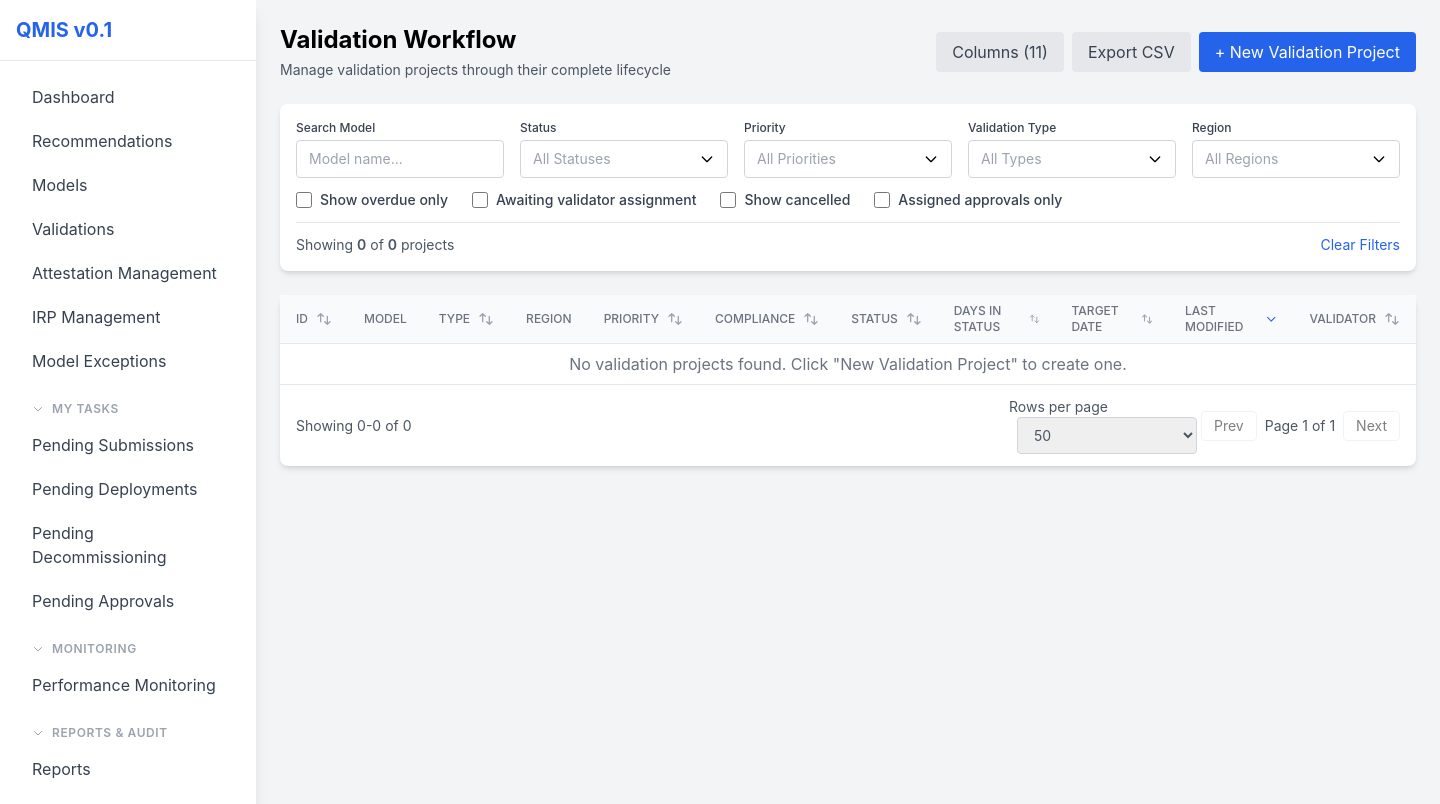
ValidationWorkflowPage - Phase 4 Regional Scope Intelligence › API Integration › handles API errors gracefully when fetching region suggestions
This screenshot has width=1440, height=804.
What coordinates should you click on to do the following:
click the button "+ New Validation Project"
I would click on:
 (1307, 52)
Its box is [1199,32,1416,72].
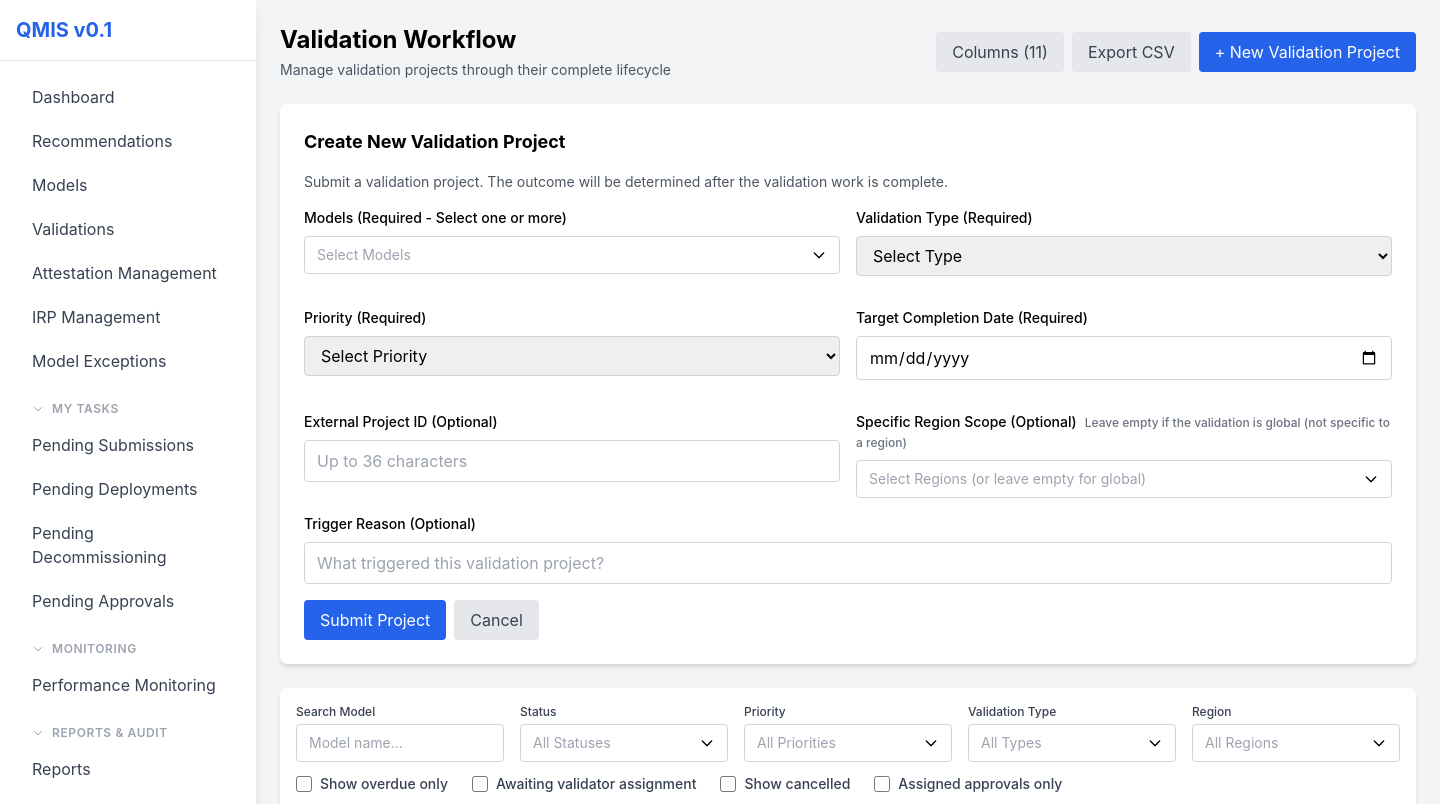
Now the heading "Create New Validation Project" is shown, box [304,131,566,152]
